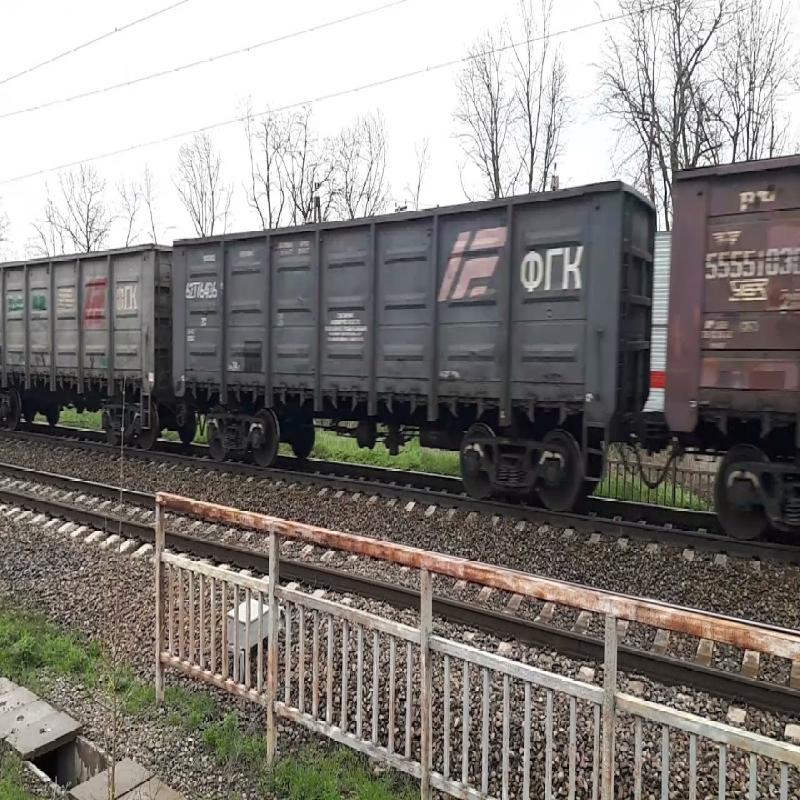train: (170, 148, 800, 488), (1, 213, 163, 467)
